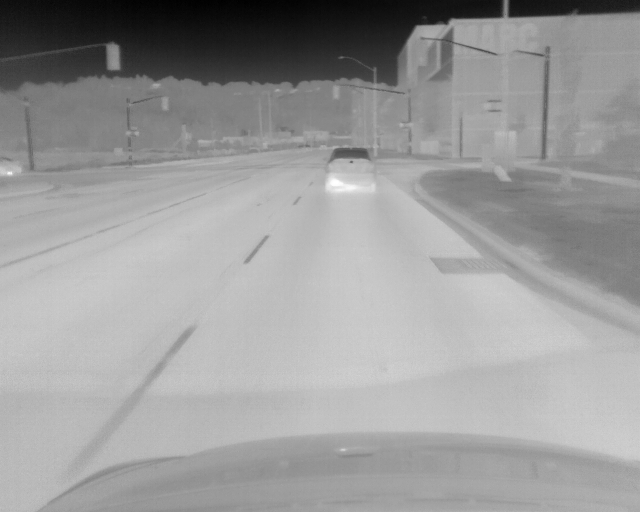car: (326, 147, 377, 193)
